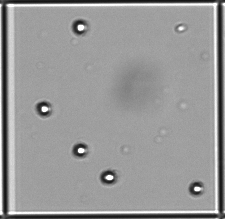Living Cell: (36, 102, 51, 116), (101, 170, 116, 184), (72, 143, 88, 156), (73, 20, 87, 34), (190, 182, 204, 195)
